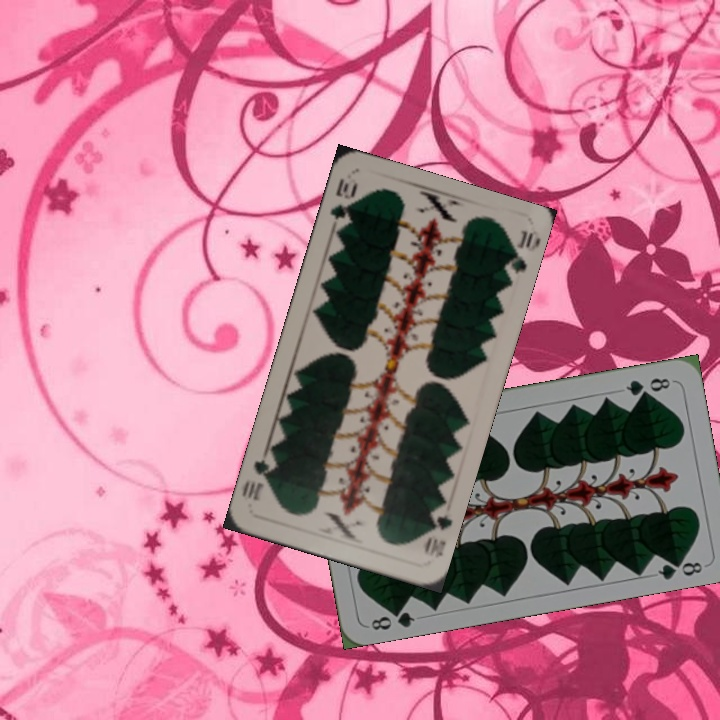G10: (326, 174, 361, 233), (420, 510, 454, 561)
G8: (367, 602, 418, 633), (622, 373, 676, 399)
